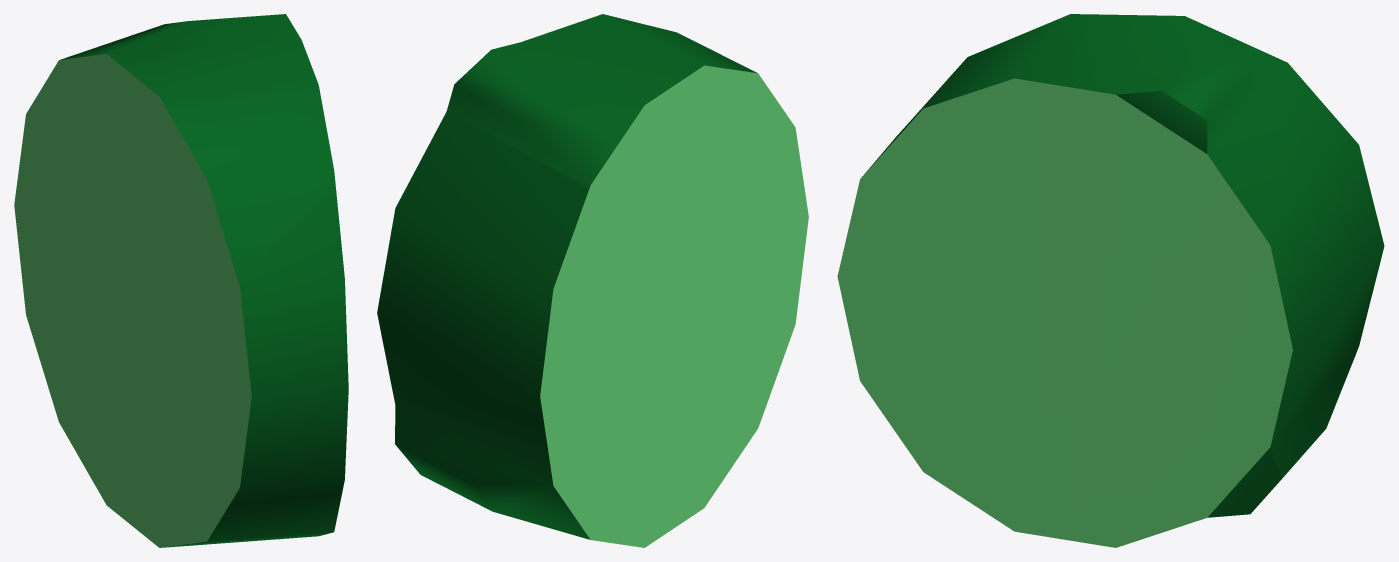
File: mesh_PickleSlice_Stage11.fbx
3 views of the same model, side by side, from view 1: azimuth 30°, elevation 25°; view 2: azimuth 150°, elevation 25°; view 3: azimuth 270°, elevation 25° (orthographic). The views are drawn at different scales.
Parts seen in each view (by area): view 1: mesh_PickleSlice_Stage11; view 2: mesh_PickleSlice_Stage11; view 3: mesh_PickleSlice_Stage11.
Part boxes in pixels (x1,y1,x2,y2): mesh_PickleSlice_Stage11: (14,14,348,547); mesh_PickleSlice_Stage11: (377,14,808,547); mesh_PickleSlice_Stage11: (837,14,1384,547).
Bounding box in the file's own units: 0.0173 × 0.033 × 0.0355.
